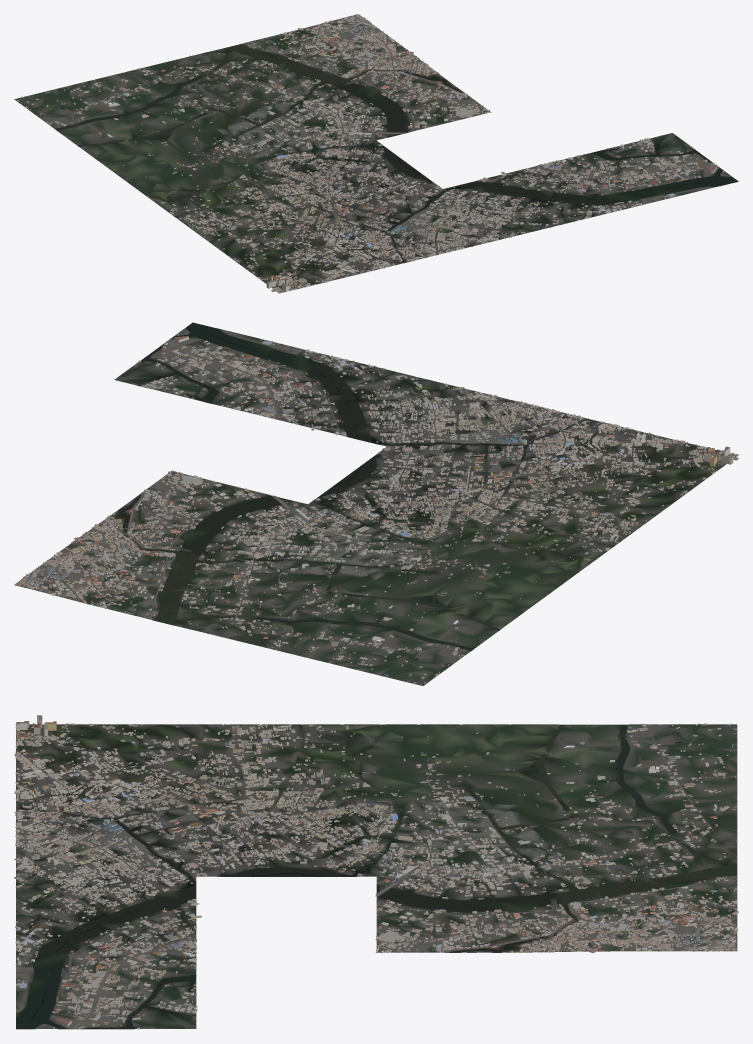
3 views of the same model, one above another, from view 1: azimuth 30°, elevation 25°; view 2: azimuth 150°, elevation 25°; view 3: azimuth 270°, elevation 25° (orthographic). The views are drawn at different scales.
Visible parts, largest first — view 1: ground, buildings, water, roads; view 2: ground, buildings, water, roads; view 3: ground, buildings, water, roads.
Part boxes in pixels (x1,y1,x2,y2): ground: [14, 14, 736, 292]; buildings: [16, 14, 723, 293]; water: [55, 44, 738, 283]; roads: [45, 15, 717, 291]; ground: [14, 323, 736, 685]; buildings: [16, 334, 738, 683]; water: [117, 322, 695, 660]; roads: [19, 341, 729, 671]; ground: [16, 724, 737, 1029]; buildings: [14, 715, 738, 1029]; water: [16, 724, 736, 1028]; roads: [16, 724, 737, 1029].
Size of the model in its own units: 5642 by 65.09 by 5632.
